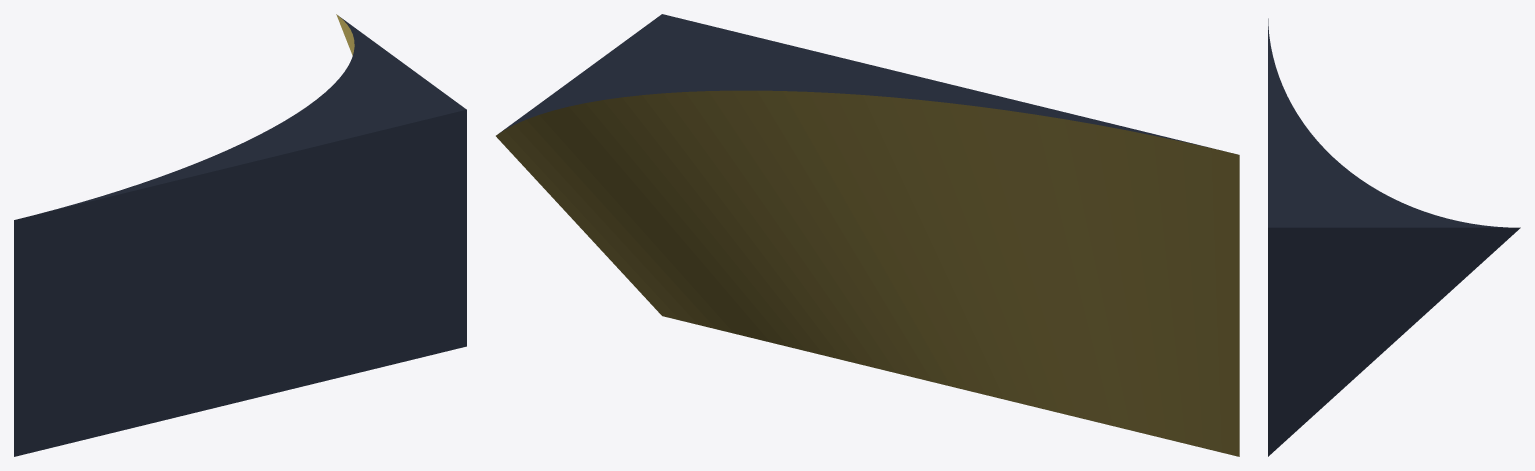
The model's file is Twister Left.fbx.
The picture shows the model from 3 angles, left to right: view 1: azimuth 30°, elevation 25°; view 2: azimuth 150°, elevation 25°; view 3: azimuth 270°, elevation 25°; orthographic projection. The views are drawn at different scales.
Visible parts, largest first — view 1: Twister Left; view 2: Twister Left; view 3: Twister Left.
Boxes of the visible parts, <box> form: Twister Left: <box>14,14,466,456</box>; Twister Left: <box>496,14,1239,456</box>; Twister Left: <box>1268,18,1520,456</box>.
Size of the model in its own units: 800 by 400 by 400.
